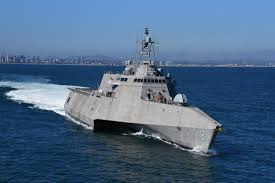tau_muctieu: (59, 53, 221, 158)
